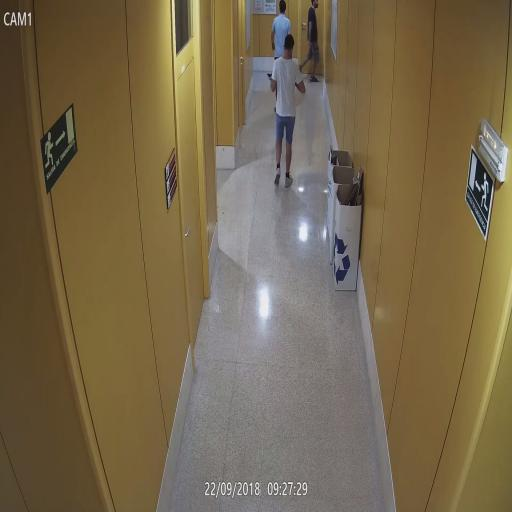Handgun: (306, 40, 314, 53)
